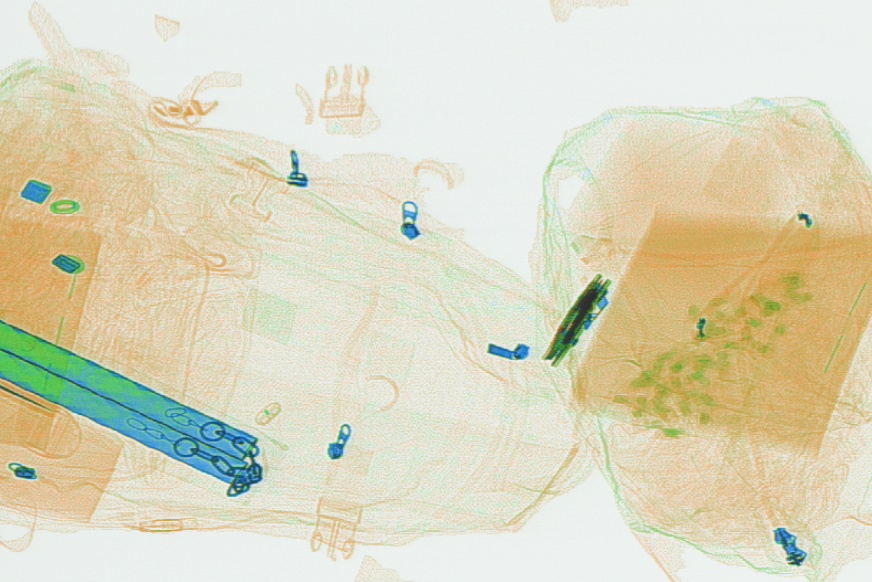firecrackers: (609, 259, 811, 442)
knife: (539, 268, 610, 366)
